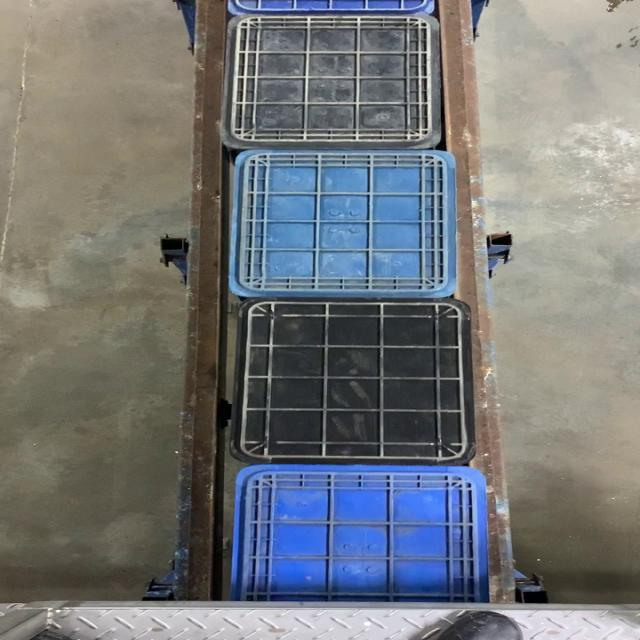Box: (226, 296, 479, 464), (229, 148, 463, 296), (224, 12, 442, 148)
